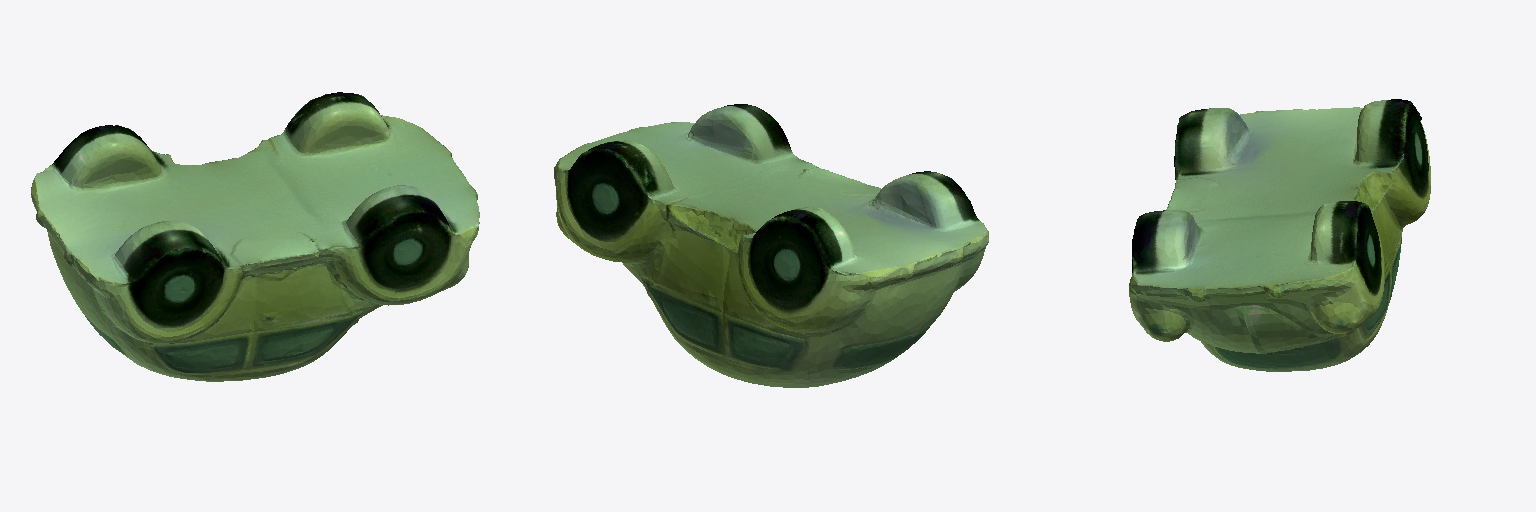
The picture shows the model from 3 angles: view 1: azimuth 30°, elevation 25°; view 2: azimuth 150°, elevation 25°; view 3: azimuth 270°, elevation 25°; orthographic projection.
Size of the model in its own units: 95.03 by 50.51 by 64.62.
Materials: 1 (1 with a texture image).